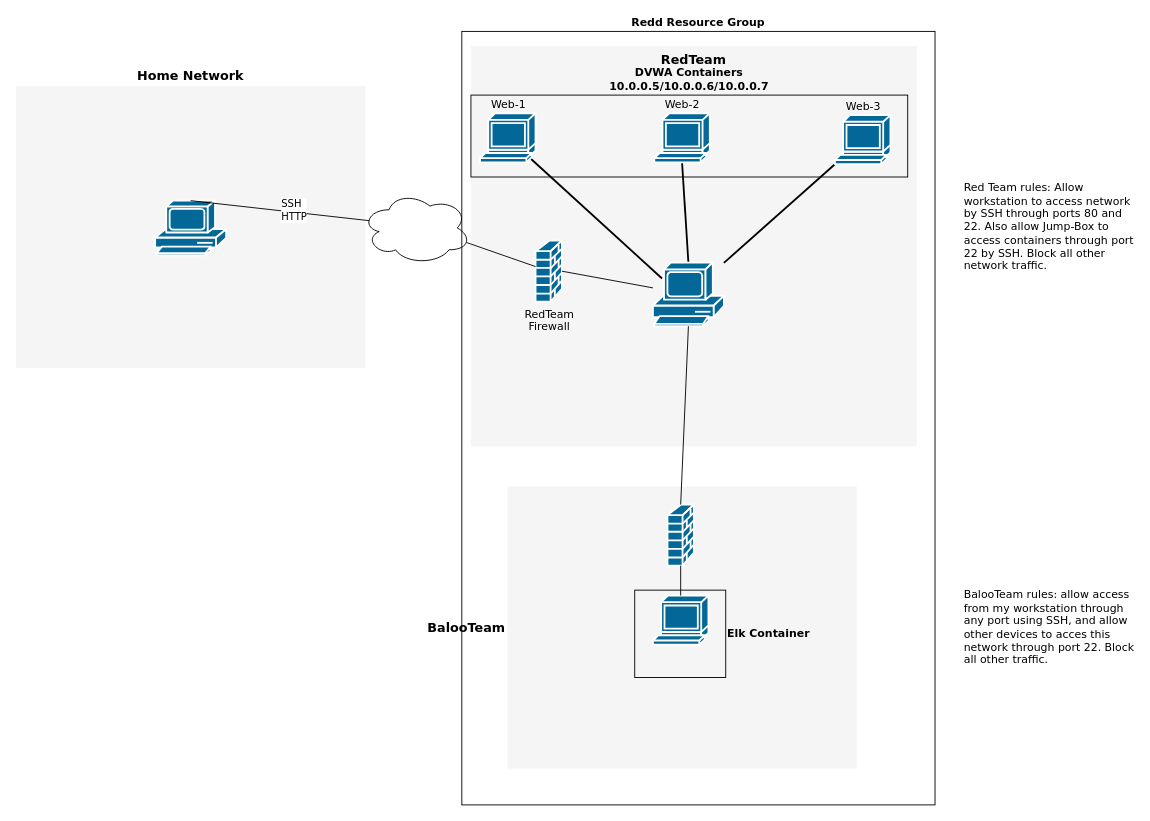
This 1150x821 diagram has some shape labels left out. Each missing label, with the centre of its shape:
Baloo-1 10.1.0.4: (680,619)
BalooTeam Firewall: (680,534)
Internet: (416,227)
Jump-Box Provisioner 23.100.43.42: (688,294)
Workstation 73.202.206.232: (190,227)
